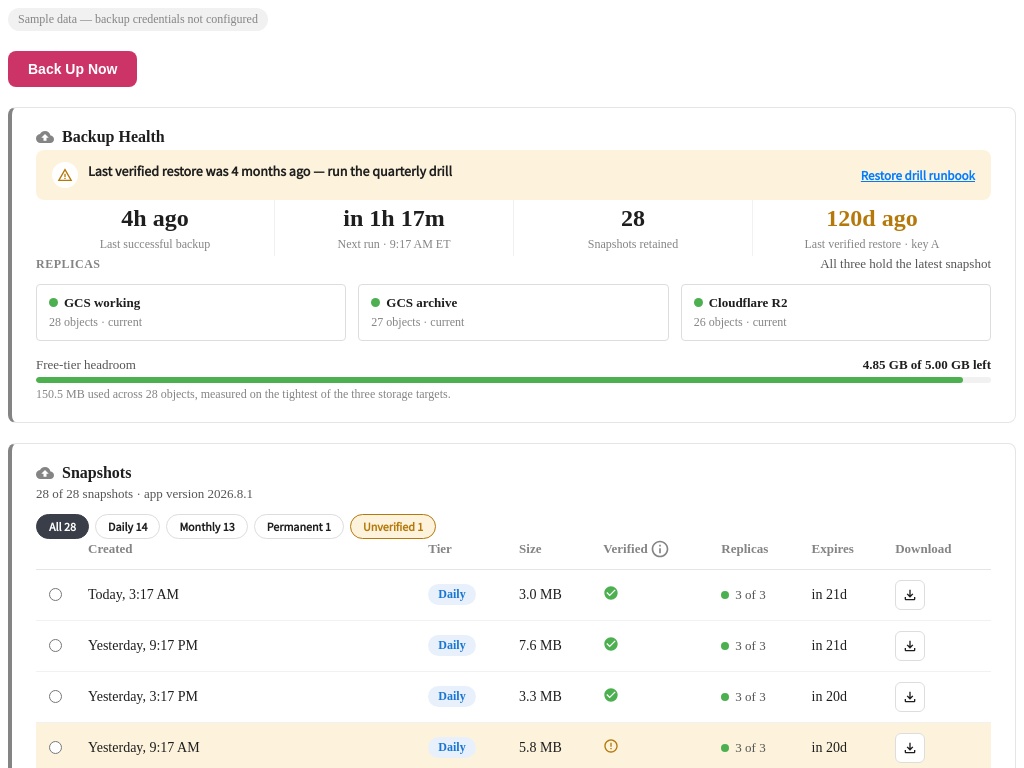
Test case: BackupsTab › shows an informational toast instead of opening a tab when the download URL is null (mock mode)
The image size is (1024, 768).
Step 1. Click the button named "Download (encrypted)" → [910, 595], box [895,580,925,610]
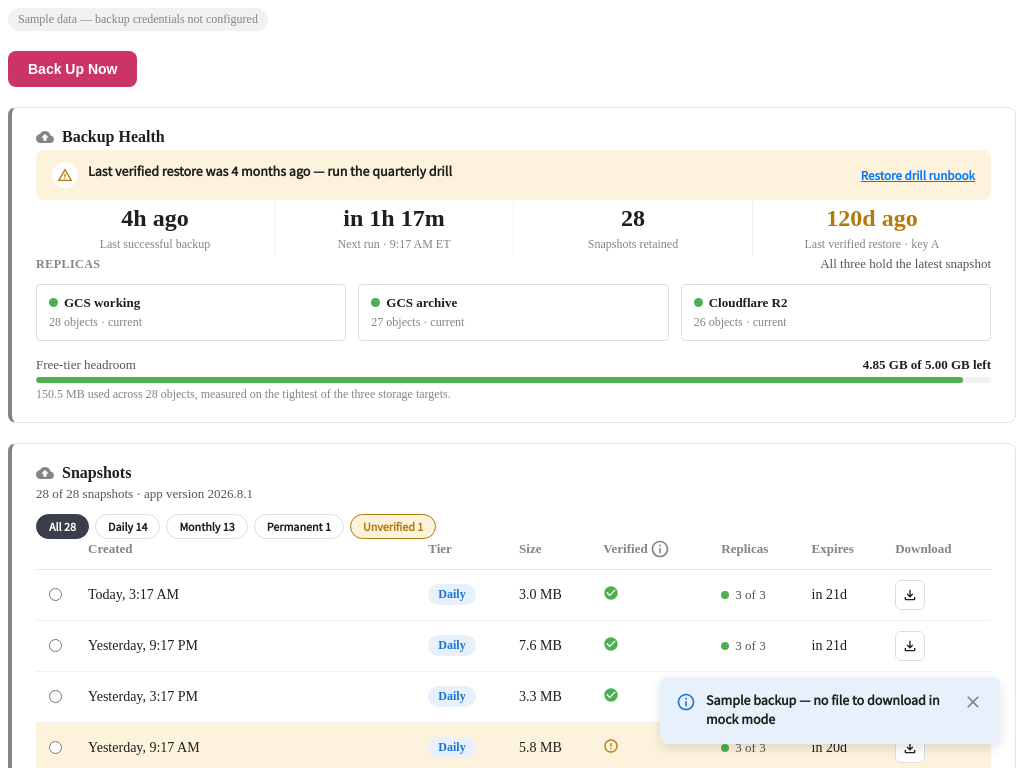
Check: the text "Sample backup — no file to download in mock mode" is shown, box [706,691,952,730]
